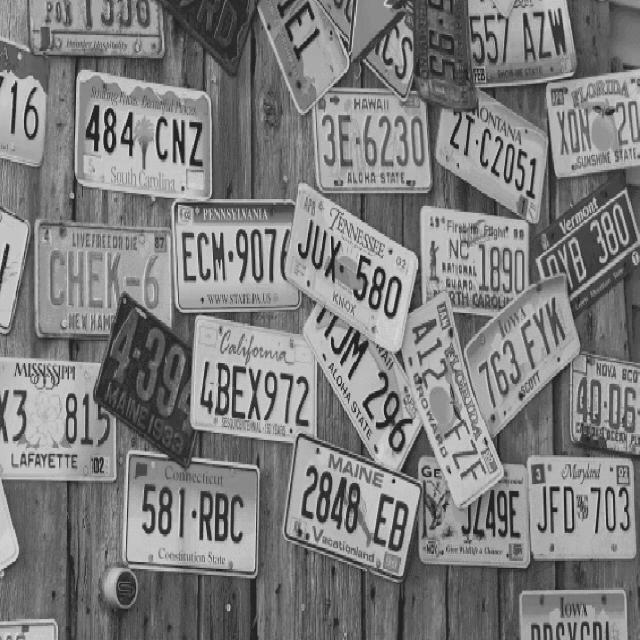License_Plate: (302, 295, 425, 480), (402, 291, 505, 510), (281, 436, 422, 584), (286, 183, 416, 339), (462, 273, 580, 437), (92, 293, 204, 461), (114, 453, 264, 578), (76, 74, 214, 202), (528, 172, 640, 319), (31, 224, 172, 338), (0, 358, 119, 486), (432, 92, 548, 222), (173, 205, 299, 306), (309, 87, 429, 193), (420, 458, 530, 573), (415, 202, 527, 310), (527, 457, 640, 564), (542, 68, 640, 180), (466, 0, 578, 88), (567, 350, 640, 456), (0, 39, 50, 168), (520, 586, 630, 640)
